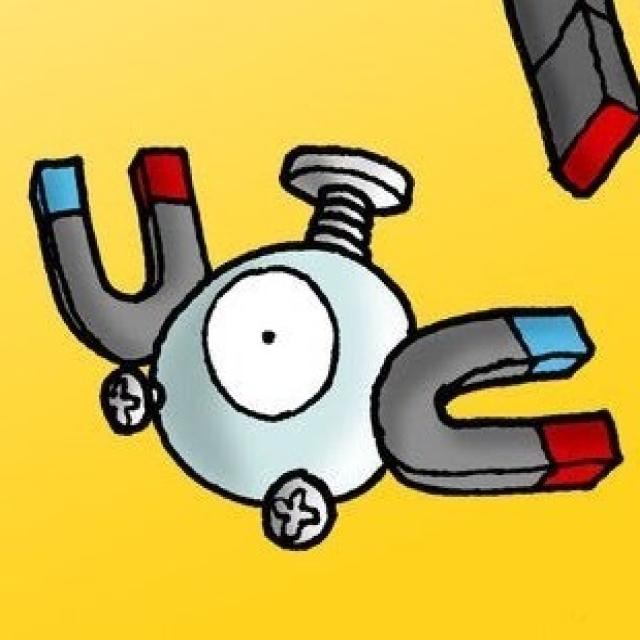Magnemite: (23, 146, 622, 508)
